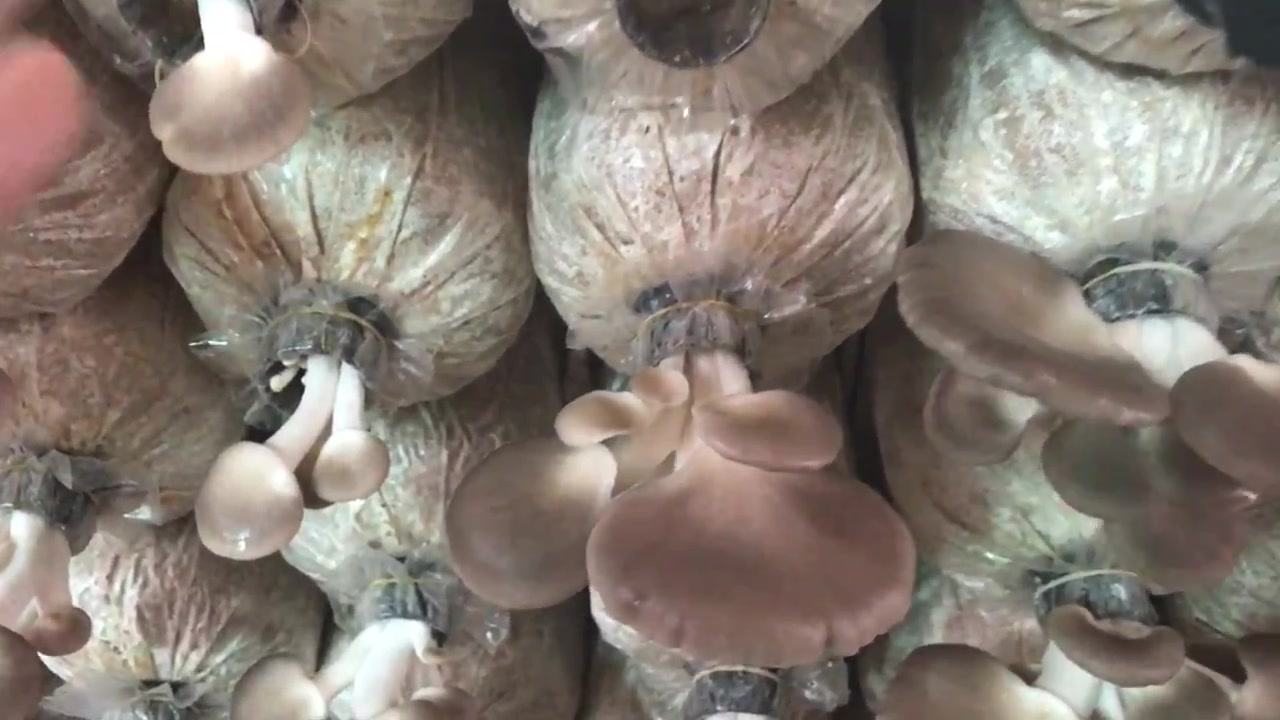nam: (448, 296, 918, 670), (899, 227, 1280, 589), (193, 295, 400, 560), (885, 581, 1280, 718), (231, 580, 473, 720), (149, 1, 317, 180), (1, 463, 93, 720)
